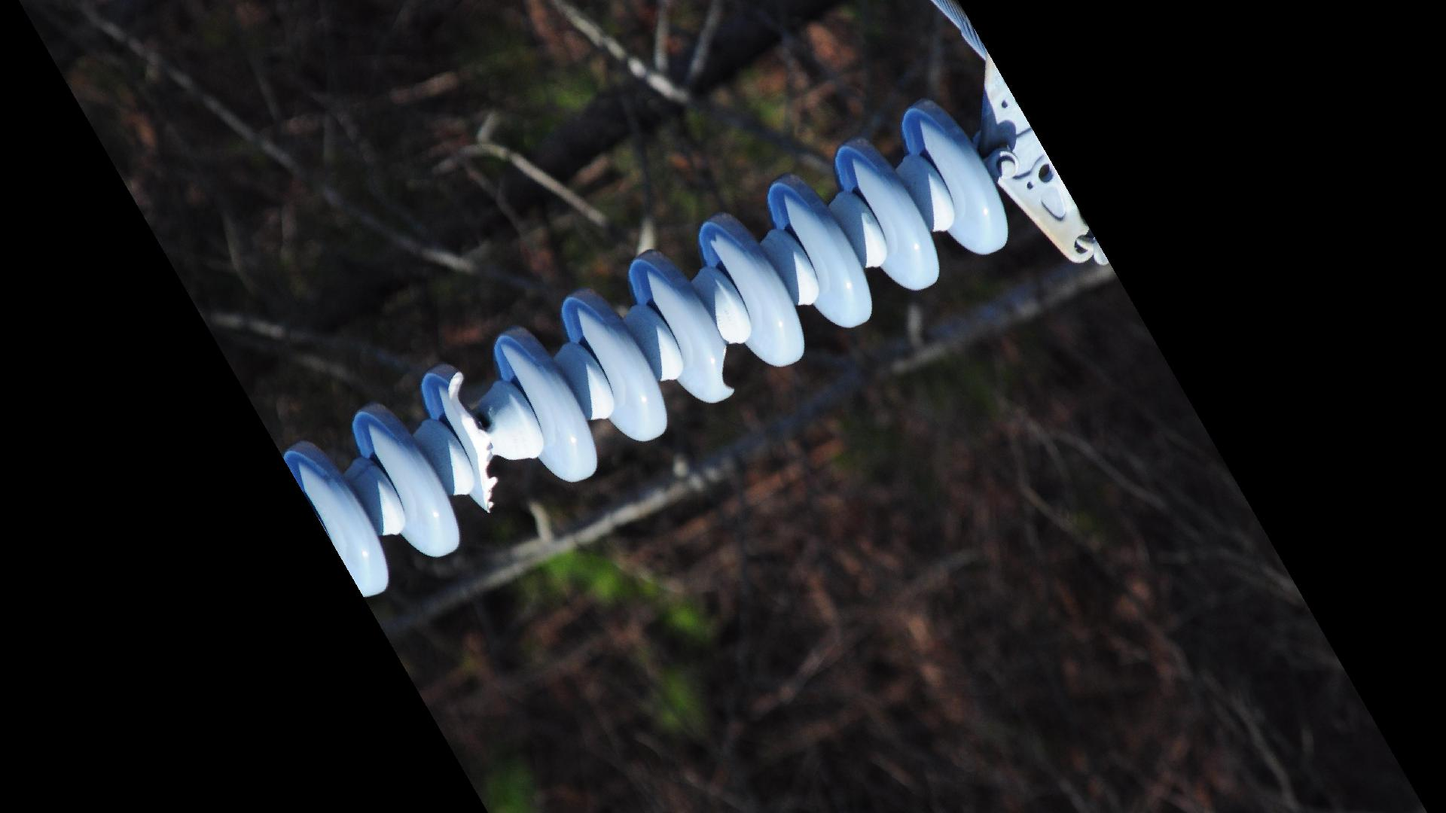insulator: (277, 91, 1014, 606)
insulator_breakage: (436, 363, 503, 519), (705, 329, 746, 403)
